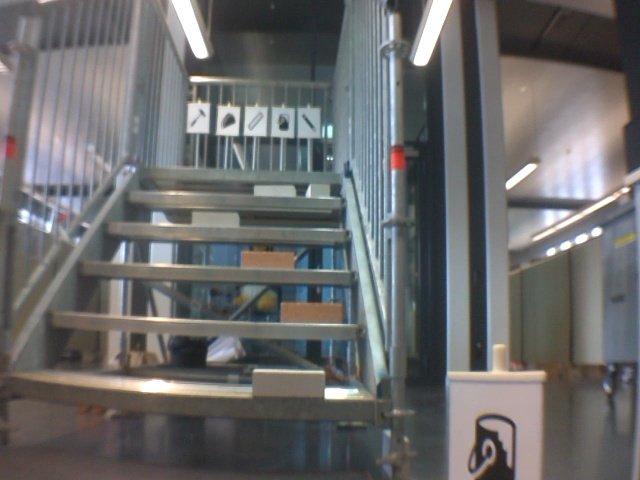brick: (253, 370, 324, 397), (281, 303, 340, 324), (240, 252, 294, 269), (191, 213, 238, 227), (254, 186, 295, 196), (307, 185, 329, 197)
bucket: (273, 112, 290, 133)
edge: (9, 376, 373, 419), (47, 313, 365, 338), (77, 261, 357, 283), (102, 221, 351, 240), (124, 192, 345, 207), (139, 167, 340, 183)
hammer: (188, 105, 206, 129)
pencil: (299, 112, 317, 135)
ruler: (246, 110, 264, 132)
stairs: (3, 1, 411, 476)
steps: (4, 166, 376, 427)
taco: (219, 109, 237, 131)
